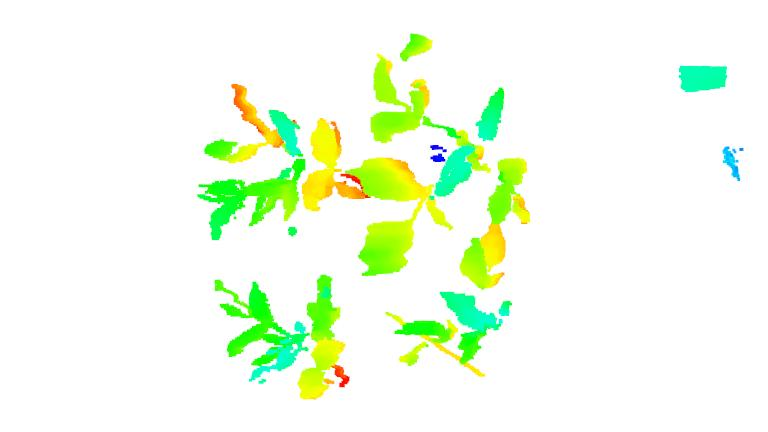mungbean: (344, 31, 536, 282), (194, 80, 366, 244), (212, 269, 351, 402), (396, 288, 516, 374)
